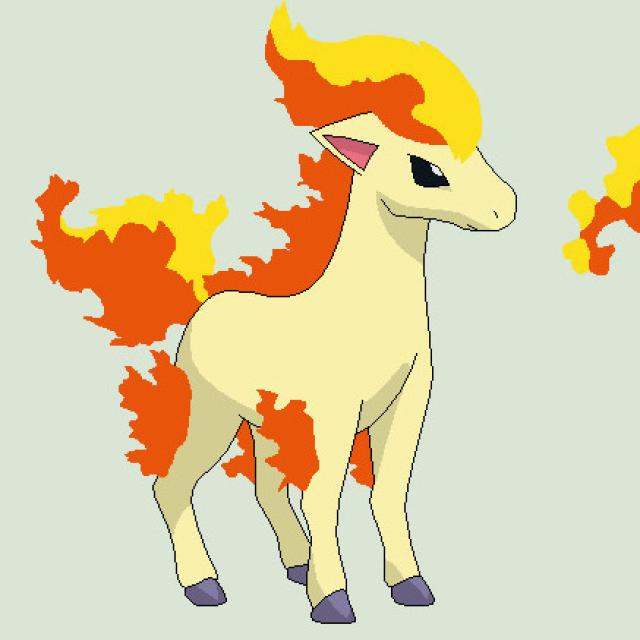Ponyta: (105, 30, 526, 624)
